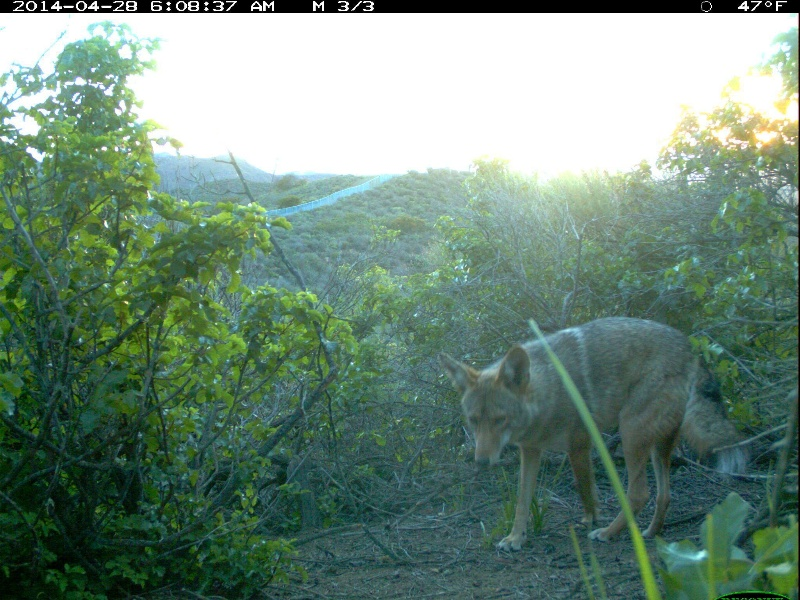coyote: (438, 312, 755, 569)
